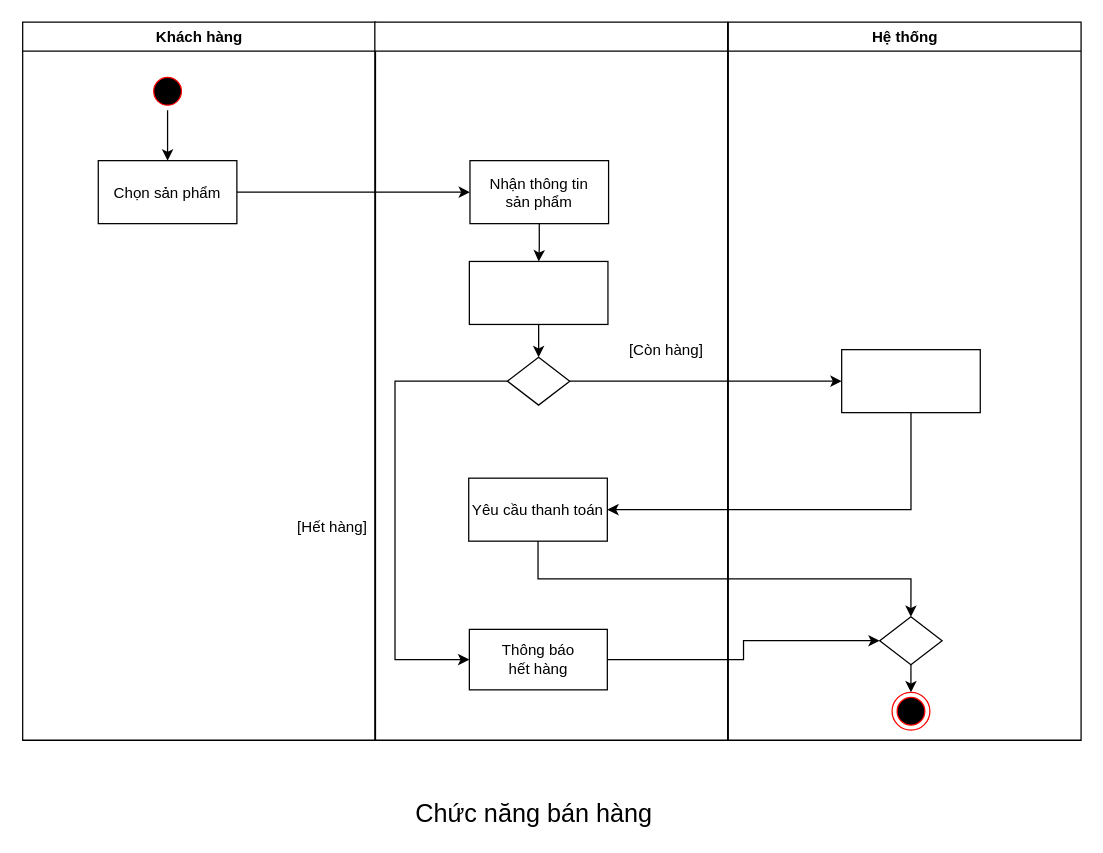
The diagram is 1103 pixels wide and 853 high, and some of its shapes have lost their labels. The shapes that lost their labels are listed below. From the top down, each one's box as (x1, y1, x2, y2) in pixels, then its label:
(468, 260, 608, 324): Kiểm tra thông tin tồn kho
(374, 21, 728, 740): Nhân viên
(840, 348, 980, 413): Lập hóa đơn
